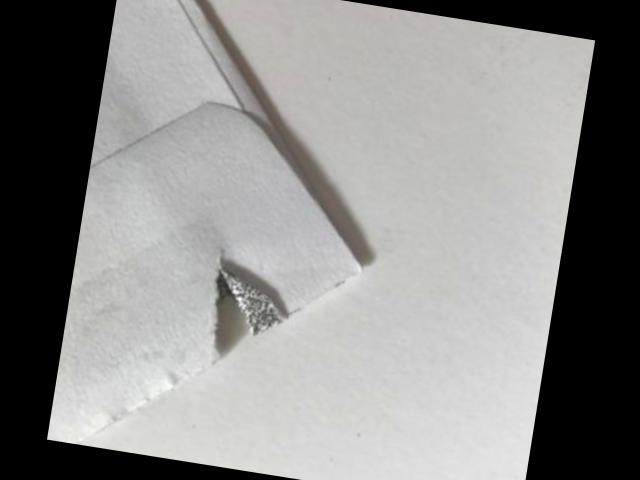cardboard paper: (45, 106, 359, 445)
